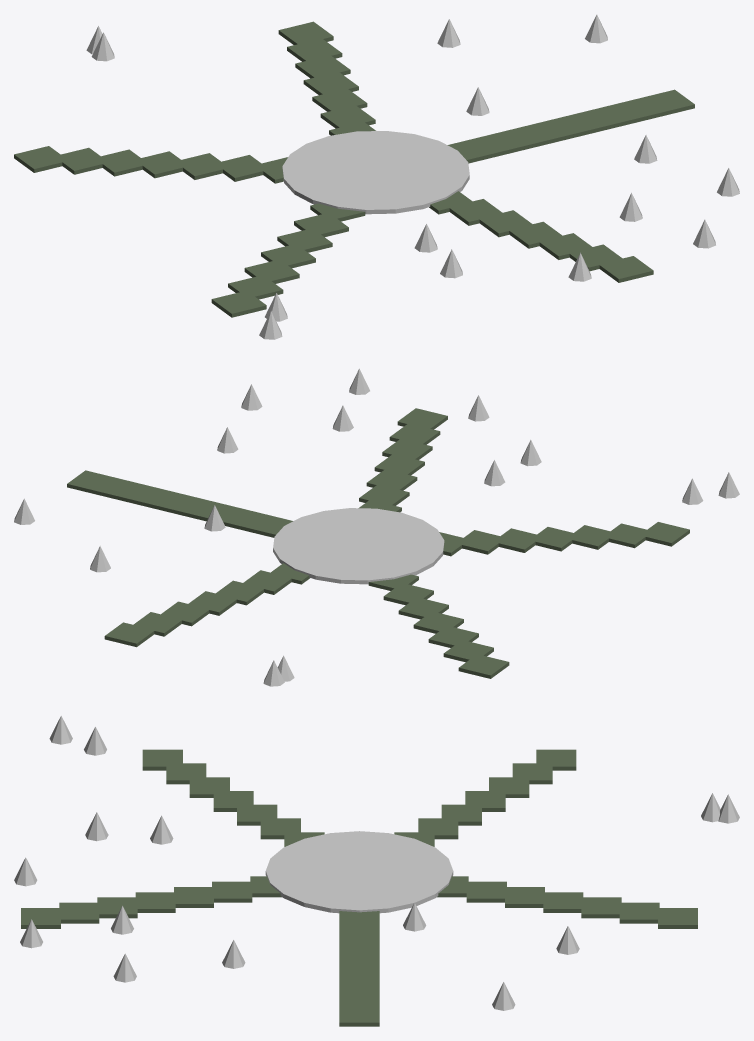
The model's file is layout_main.obj.
3 views of the same model, one above another, from view 1: azimuth 30°, elevation 25°; view 2: azimuth 150°, elevation 25°; view 3: azimuth 270°, elevation 25° (orthographic). The views are drawn at different scales.
Parts seen in each view (by area): view 1: paths, plaza, scatter; view 2: paths, plaza, scatter; view 3: paths, plaza, scatter.
Part boxes in pixels (<box>): paths: <box>14,21,694,317</box>; plaza: <box>282,131,469,214</box>; scatter: <box>86,14,739,339</box>; paths: <box>67,408,689,678</box>; plaza: <box>273,508,444,584</box>; scatter: <box>14,368,739,686</box>; paths: <box>21,749,697,1026</box>; plaza: <box>265,831,453,913</box>; scatter: <box>14,716,739,1010</box>.
Bounding box in the file's own units: 49.18 × 3.08 × 54.2.
